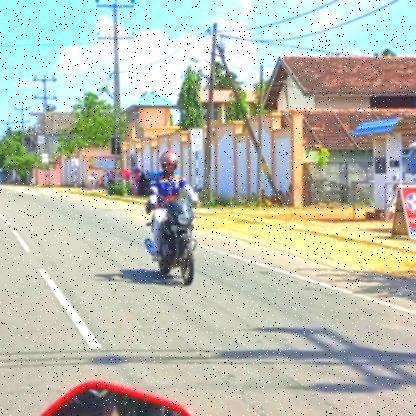motorcycle: (138, 195, 209, 287)
